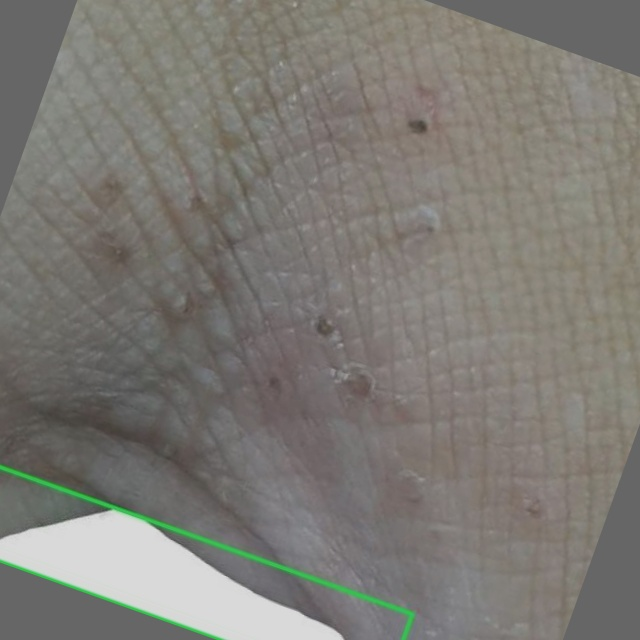Scabies: (0, 467, 412, 639)
